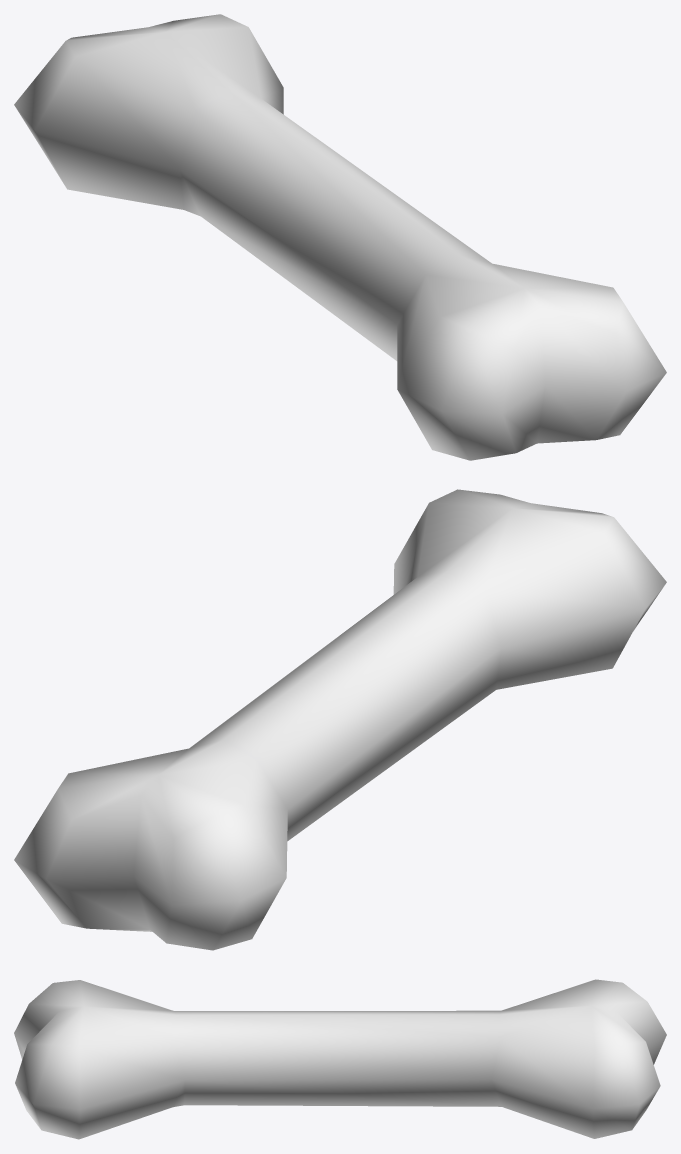
The model's file is halloween_bone_low-poly_game_ready.glb.
The picture shows the model from 3 angles, top to bottom: view 1: azimuth 30°, elevation 25°; view 2: azimuth 150°, elevation 25°; view 3: azimuth 270°, elevation 25°; orthographic projection. The views are drawn at different scales.
Visible parts, largest first — view 1: Sphere012_Material #219_0; view 2: Sphere012_Material #219_0; view 3: Sphere012_Material #219_0.
Boxes of the visible parts, box(x1,y1,x2,y2) form: Sphere012_Material #219_0: box(14, 14, 666, 460); Sphere012_Material #219_0: box(14, 489, 666, 950); Sphere012_Material #219_0: box(14, 979, 666, 1139).
Bounding box in the file's own units: 10.2 × 5.97 × 31.86.
Materials: 1 (1 with a texture image).
